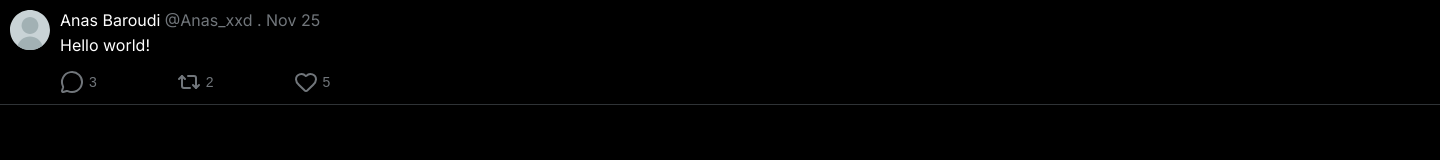
Test: Post › should increase the repost count when reposted
Click the button named "Repost". click: (195, 82)
box: x1=177 y1=70 x2=214 y2=94
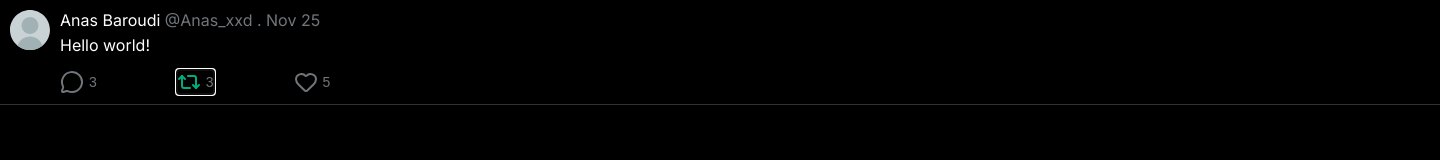
Now the button named "Repost" reads "3", box x1=177 y1=70 x2=214 y2=94
